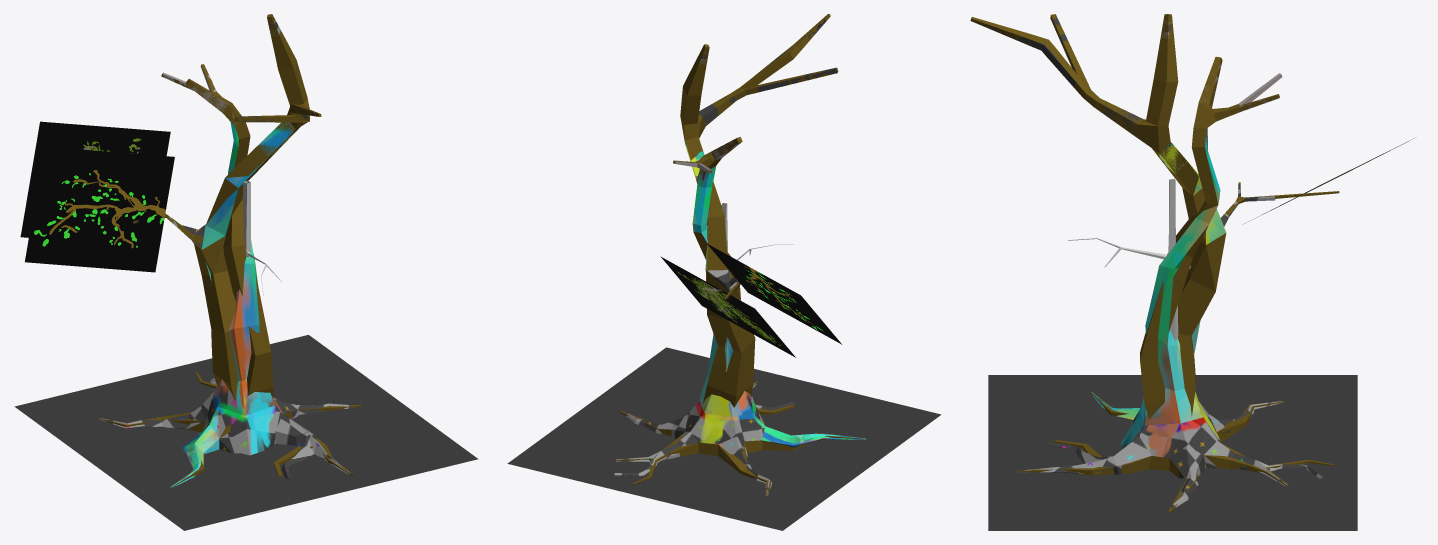
The model's file is FFF_Scene_002.fbx.
3 renders of one model, left to right at view 1: azimuth 30°, elevation 25°; view 2: azimuth 150°, elevation 25°; view 3: azimuth 270°, elevation 25°, orthographic. The views are drawn at different scales.
Visible parts, largest first — view 1: Plane.001, Plane.003, Plane.004, Plane, Plane.002, Plane.005; view 2: Plane.001, Plane.004, Plane, Plane.003, Plane.002; view 3: Plane.001, Plane.004, Plane, Plane.005.
Boxes of the visible parts, box(x1,y1,x2,y2) form: Plane.001: box(14, 335, 478, 530); Plane.003: box(25, 146, 174, 272); Plane.004: box(99, 14, 361, 487); Plane: box(99, 20, 355, 488); Plane.002: box(20, 121, 170, 237); Plane.005: box(242, 180, 281, 295); Plane.001: box(507, 347, 941, 530); Plane.004: box(616, 14, 865, 495); Plane: box(614, 19, 865, 495); Plane.003: box(707, 243, 841, 344); Plane.002: box(660, 256, 795, 357); Plane.001: box(988, 375, 1357, 530); Plane.004: box(970, 14, 1339, 512); Plane: box(978, 15, 1323, 509); Plane.005: box(1068, 178, 1178, 340).
Bounding box in the file's own units: 610 × 782 × 686.
